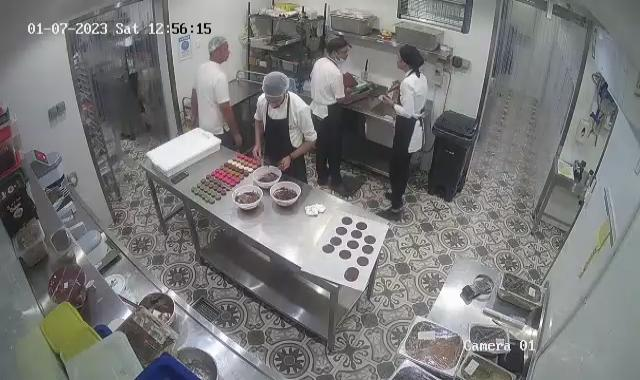hairnet: (260, 70, 290, 103), (208, 35, 228, 55)
no_hairnet: (397, 42, 423, 68), (325, 38, 348, 60)
